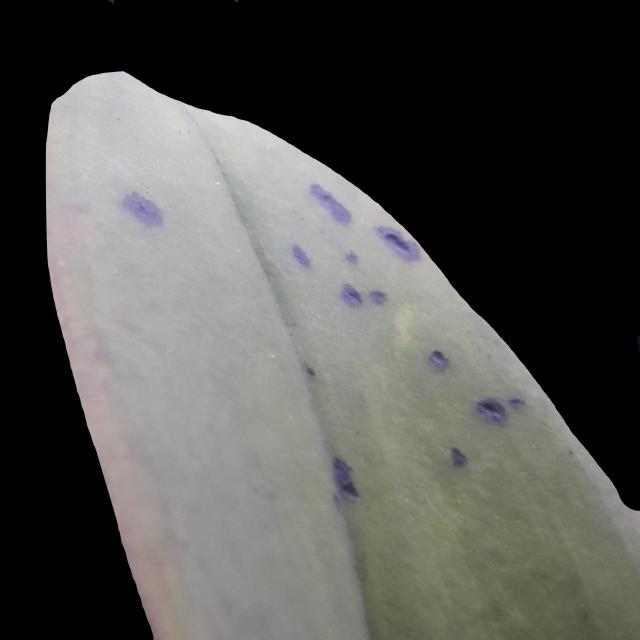mite: (288, 179, 528, 509), (326, 342, 528, 508), (290, 180, 424, 312), (422, 343, 528, 472), (443, 390, 527, 471), (411, 334, 467, 387), (473, 391, 527, 427), (337, 279, 389, 312), (475, 396, 506, 425), (383, 229, 412, 255), (339, 281, 363, 309), (427, 348, 450, 373), (448, 445, 468, 468), (368, 287, 388, 307), (507, 394, 526, 411), (343, 248, 360, 266)
sunburn: (118, 187, 166, 232)
